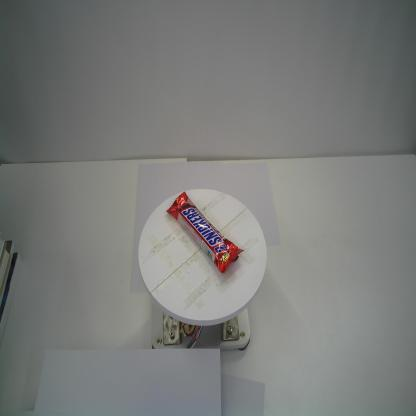Chocolate: (166, 191, 245, 274)
